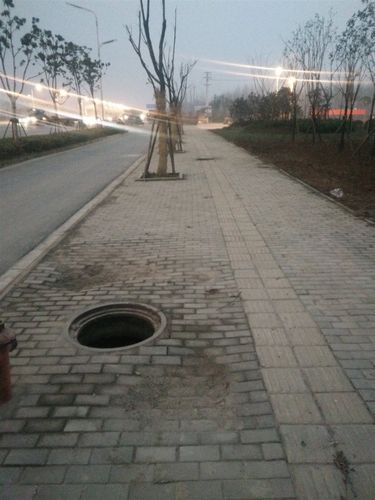lose: (55, 291, 180, 364)
